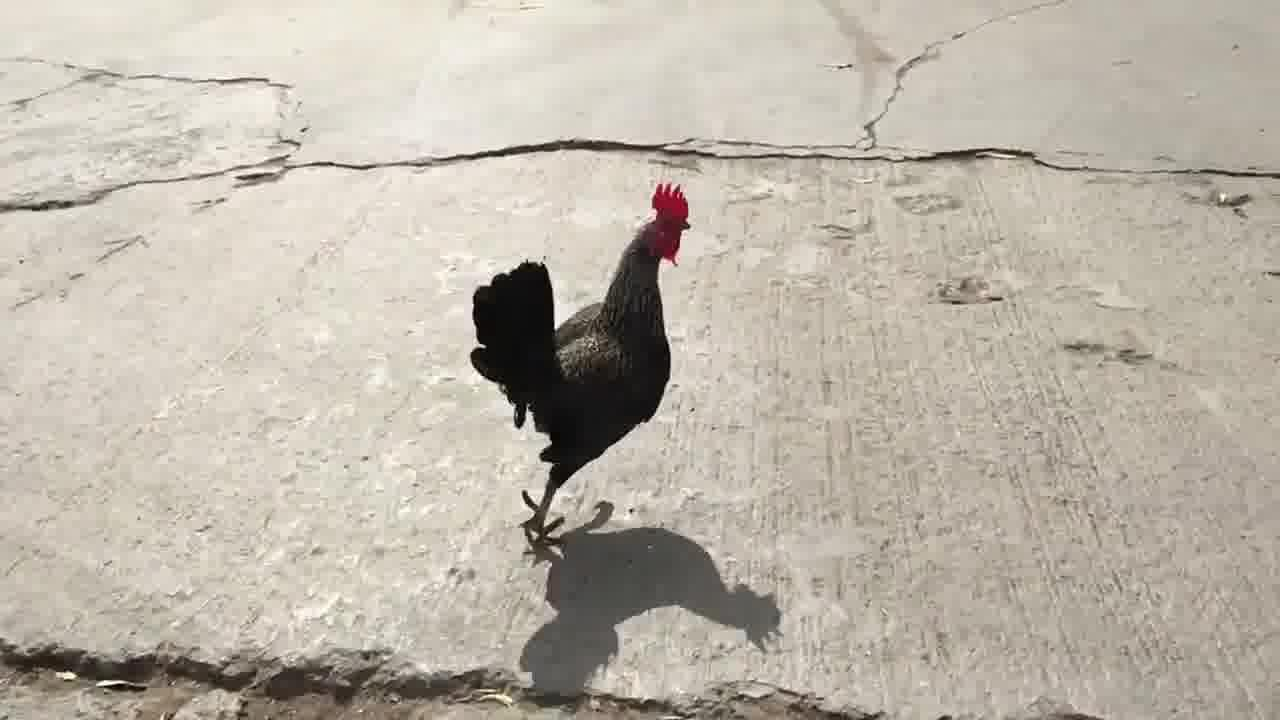Normal: (478, 176, 706, 556)
